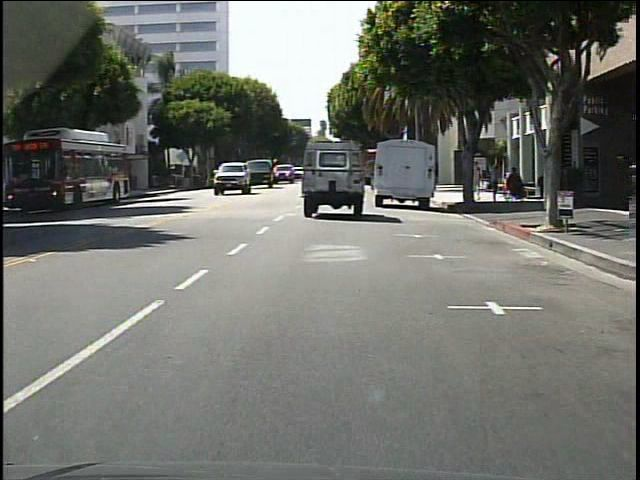person: (469, 159, 484, 203), (489, 164, 504, 203)
